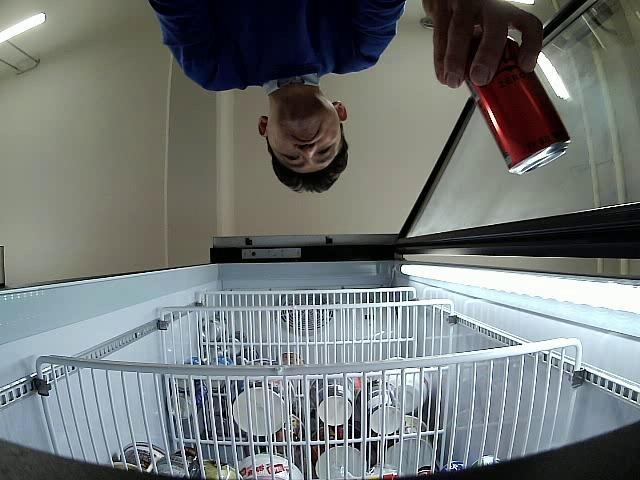11_cocaColaZero: (464, 34, 570, 176)
